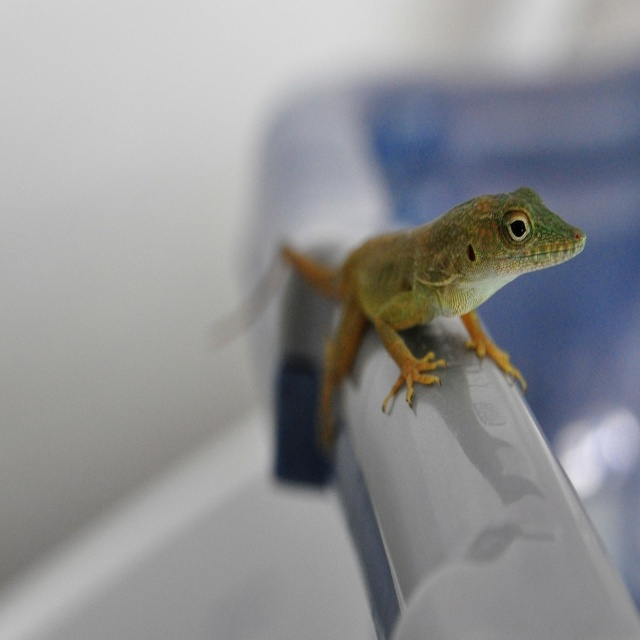Lizard: (278, 182, 595, 451)
